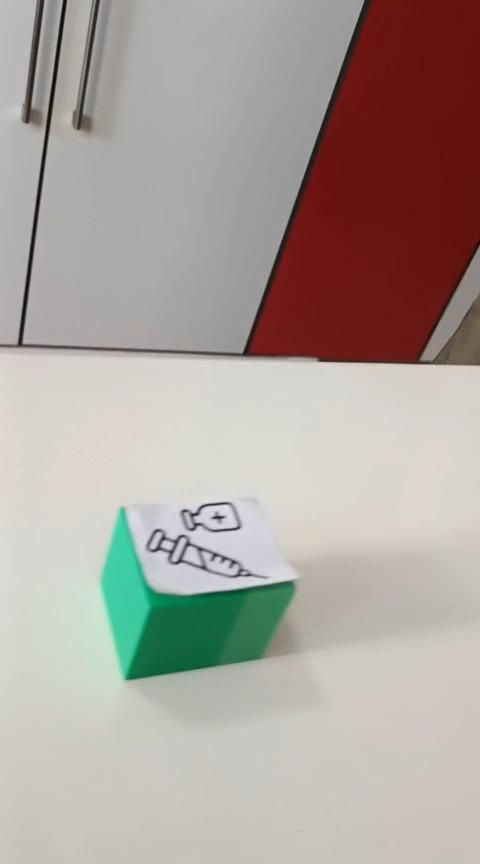antiseptic cream: (99, 494, 299, 680)
